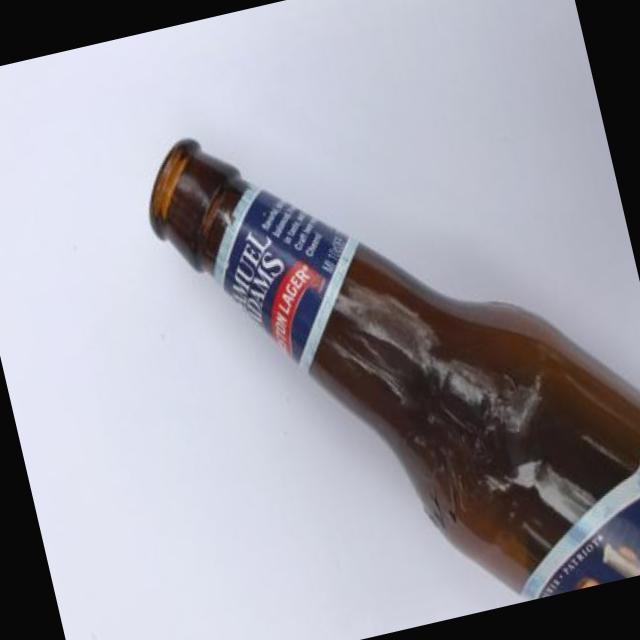chai_thuy_tinh: (149, 138, 640, 600)
